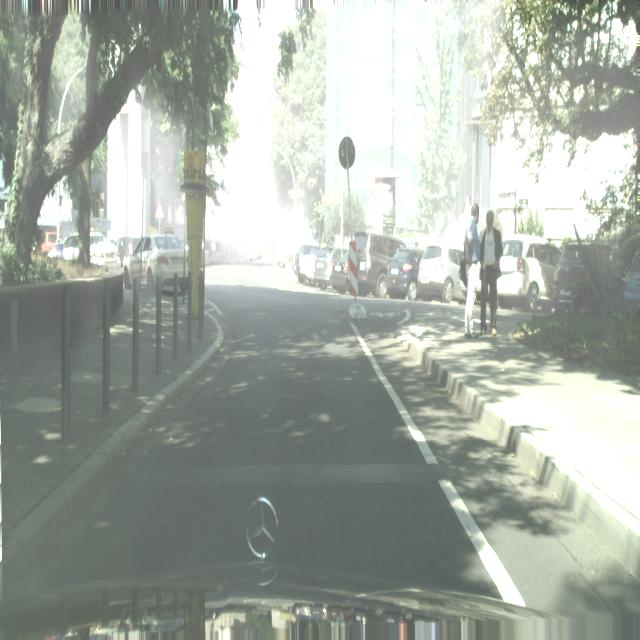person: (478, 208, 503, 335), (463, 202, 481, 338)
truck: (552, 241, 640, 314), (497, 234, 562, 312), (347, 232, 405, 299), (123, 234, 188, 291), (418, 242, 464, 304), (386, 249, 423, 301), (623, 249, 640, 312), (328, 246, 349, 293), (295, 244, 319, 284), (90, 236, 120, 266), (311, 248, 332, 289)
